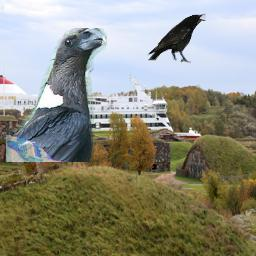Crow: (6, 28, 107, 162), (147, 13, 207, 64)
